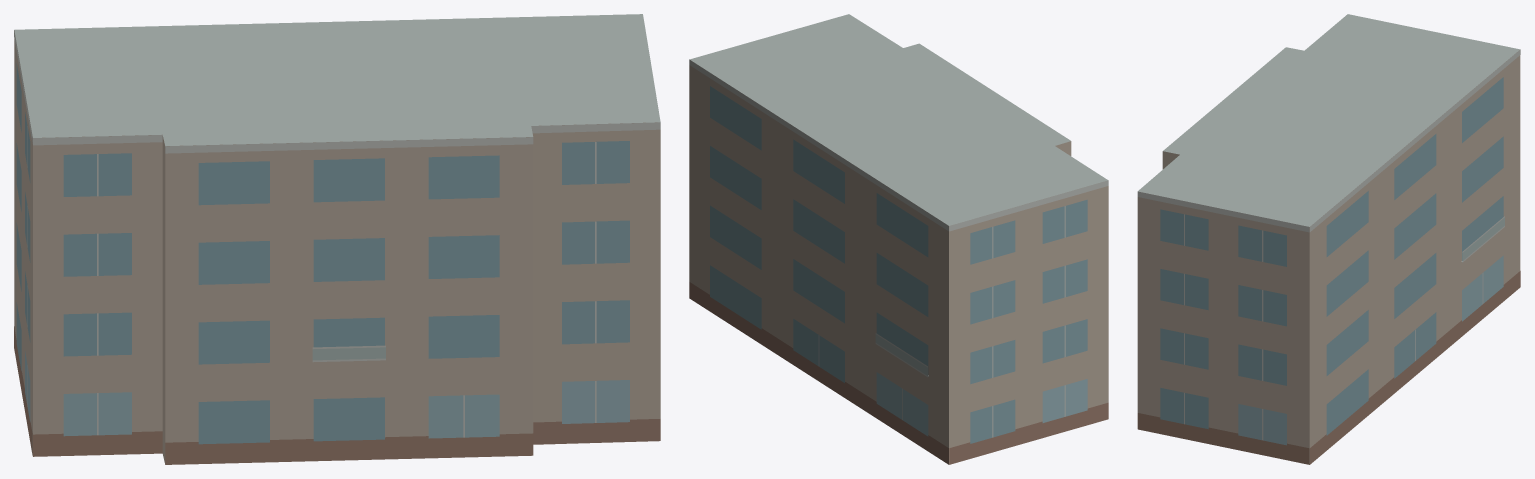
Rendered from survey-upis-32983341.glb.
The picture shows the model from 3 angles, left to right: view 1: azimuth 30°, elevation 25°; view 2: azimuth 150°, elevation 25°; view 3: azimuth 270°, elevation 25°; orthographic projection. The views are drawn at different scales.
Visible parts, largest first — view 1: survey-upis-32983341.tmp; view 2: survey-upis-32983341.tmp; view 3: survey-upis-32983341.tmp.
Part boxes in pixels (<box>): survey-upis-32983341.tmp: <box>14,14,660,464</box>; survey-upis-32983341.tmp: <box>689,14,1108,464</box>; survey-upis-32983341.tmp: <box>1137,14,1520,464</box>.
Size of the model in its own units: 20.16 by 10.5 by 15.32.
